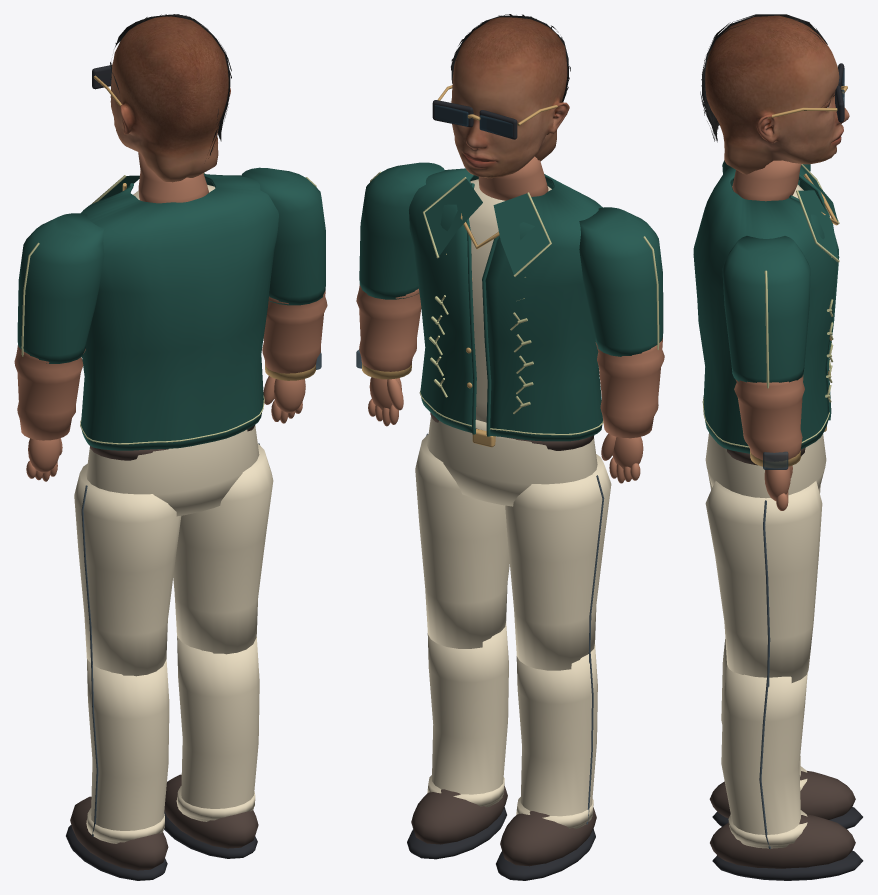
The model's file is ramon.glb.
3 views of the same model, side by side, from view 1: azimuth 30°, elevation 25°; view 2: azimuth 150°, elevation 25°; view 3: azimuth 270°, elevation 25° (orthographic).
Parts seen in each view (by area): view 1: ramon_torso_surface, ramon_knee_L_surface, ramon_knee_R_surface, ramon_leg_L_surface, ramon_head_surface, ramon_leg_R_surface, ramon_arm_L_surface, ramon_arm_R_surface, ramon_elbow_L_surface, ramon_elbow_R_surface; view 2: ramon_torso_surface, ramon_knee_L_surface, ramon_knee_R_surface, ramon_leg_L_surface, ramon_head_surface, ramon_leg_R_surface, ramon_arm_L_surface, ramon_arm_R_surface, ramon_elbow_L_surface, ramon_elbow_R_surface; view 3: ramon_torso_surface, ramon_knee_R_surface, ramon_head_surface, ramon_leg_R_surface, ramon_arm_R_surface, ramon_elbow_R_surface, ramon_knee_L_surface.
Part boxes in pixels (box(x1,y1,x2,y2)): ramon_torso_surface: box(80, 152, 278, 516); ramon_knee_L_surface: box(66, 659, 169, 880); ramon_knee_R_surface: box(164, 636, 259, 858); ramon_leg_L_surface: box(74, 464, 181, 676); ramon_head_surface: box(92, 14, 231, 182); ramon_leg_R_surface: box(173, 443, 273, 654); ramon_arm_L_surface: box(17, 213, 104, 363); ramon_arm_R_surface: box(241, 167, 325, 305); ramon_elbow_L_surface: box(14, 345, 85, 481); ramon_elbow_R_surface: box(262, 290, 327, 423); ramon_torso_surface: box(409, 156, 603, 506); ramon_knee_L_surface: box(496, 644, 597, 880); ramon_knee_R_surface: box(407, 622, 508, 859); ramon_leg_L_surface: box(505, 454, 611, 670); ramon_head_surface: box(432, 14, 570, 178); ramon_leg_R_surface: box(415, 433, 509, 648); ramon_arm_L_surface: box(579, 207, 663, 356); ramon_arm_R_surface: box(359, 162, 444, 299); ramon_elbow_L_surface: box(595, 337, 664, 483); ramon_elbow_R_surface: box(356, 284, 421, 426); ramon_torso_surface: box(693, 160, 839, 498); ramon_knee_R_surface: box(710, 665, 863, 880); ramon_head_surface: box(700, 14, 849, 174); ramon_leg_R_surface: box(705, 481, 822, 686); ramon_arm_R_surface: box(722, 236, 810, 388); ramon_elbow_R_surface: box(734, 375, 804, 510); ramon_knee_L_surface: box(709, 639, 862, 828).
Size of the model in its own units: 0.686 by 1.8 by 0.3348.
Materials: 17 (3 with a texture image).
